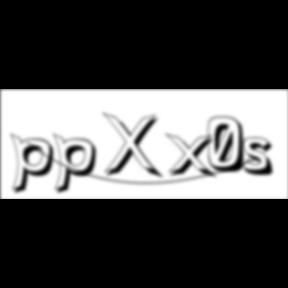0: (208, 115, 252, 174)
X: (102, 112, 166, 182)
p: (10, 132, 60, 198), (53, 132, 103, 198)
s: (242, 137, 280, 179)
x: (165, 132, 220, 181)
